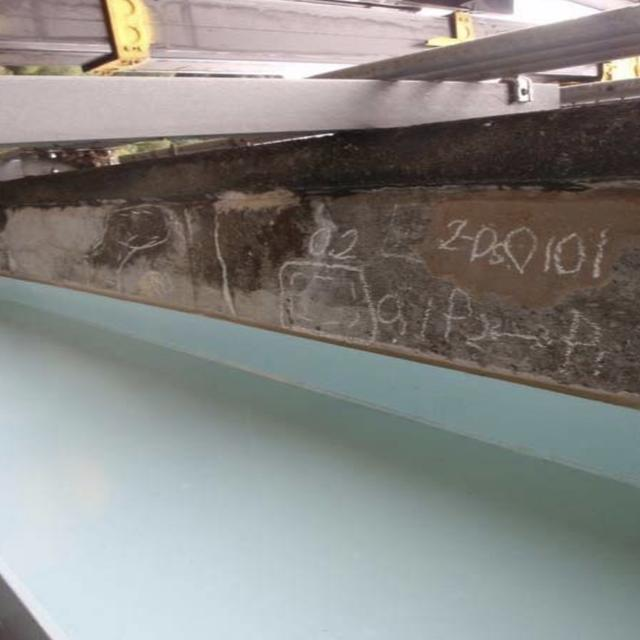leakage: (108, 183, 362, 297)
